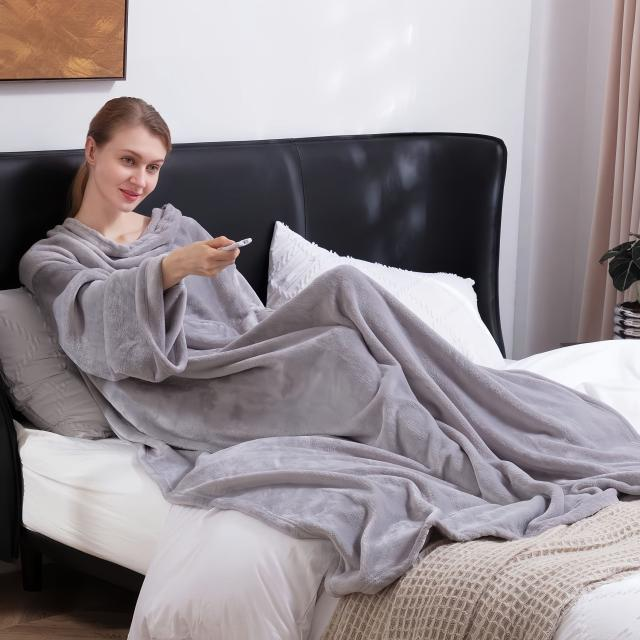blanket: (20, 205, 640, 595)
